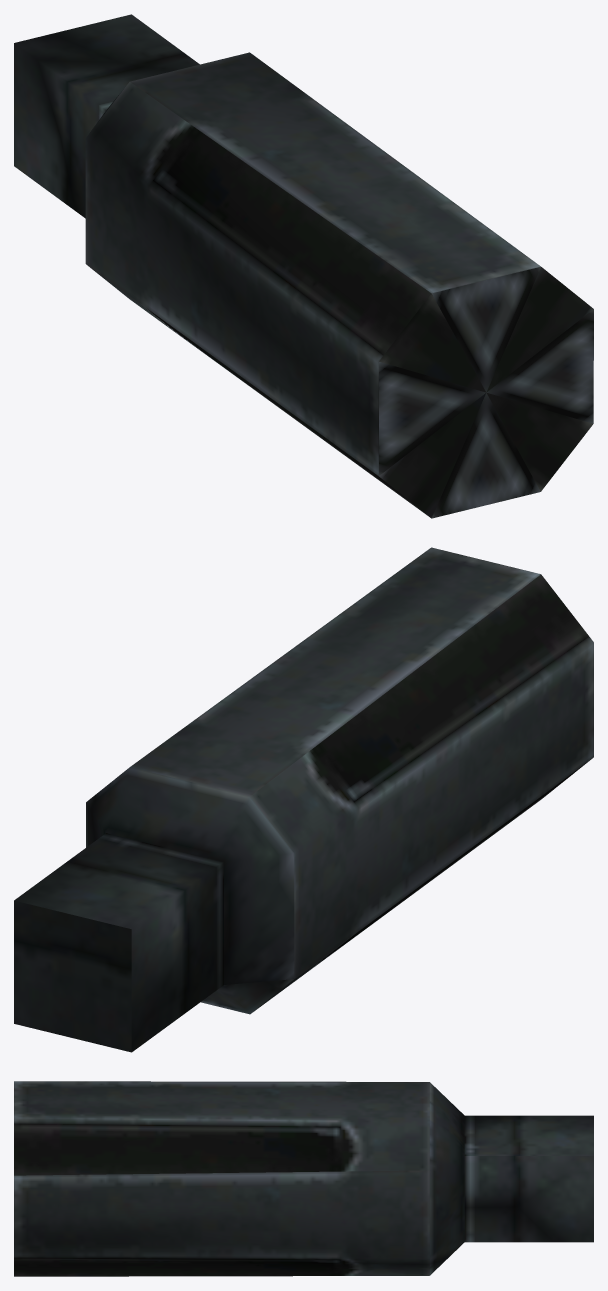
The model's file is Pickup_WeaponZj01.glb.
3 views of the same model, one above another, from view 1: azimuth 30°, elevation 25°; view 2: azimuth 150°, elevation 25°; view 3: azimuth 270°, elevation 25° (orthographic). The views are drawn at different scales.
Visible parts, largest first — view 1: pk_weapon_zj01; view 2: pk_weapon_zj01; view 3: pk_weapon_zj01.
Part boxes in pixels (box(x1,y1,x2,y2)): pk_weapon_zj01: box(14, 14, 593, 518); pk_weapon_zj01: box(14, 547, 593, 1052); pk_weapon_zj01: box(14, 1081, 593, 1276).
Bounding box in the file's own units: 0.076 × 0.076 × 0.2528.
Materials: 1 (1 with a texture image).
